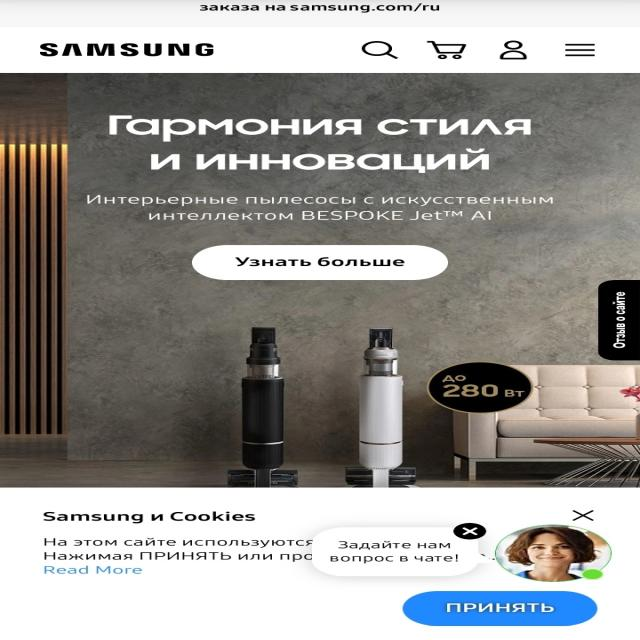button: (402, 592, 601, 628), (455, 524, 487, 539), (569, 508, 599, 522)
site: (0, 488, 640, 640), (316, 524, 482, 576)
